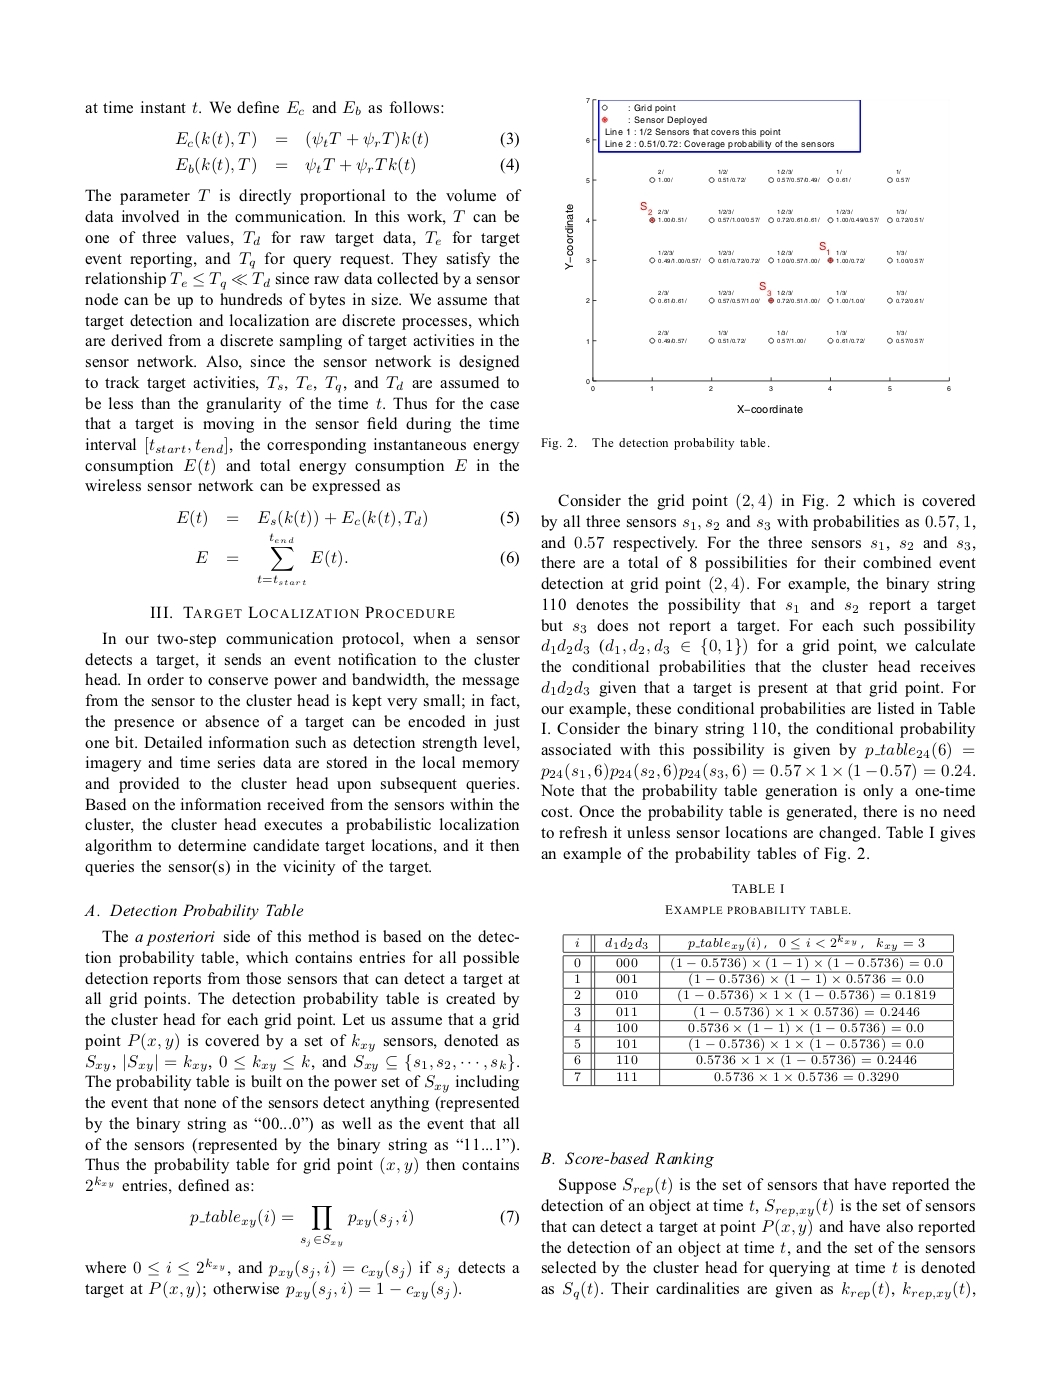Table: (562, 932, 953, 1087)
figure: (565, 98, 950, 413)
formula: (195, 533, 518, 584), (189, 1206, 518, 1246), (175, 130, 518, 149), (175, 156, 518, 175), (176, 509, 518, 528)
